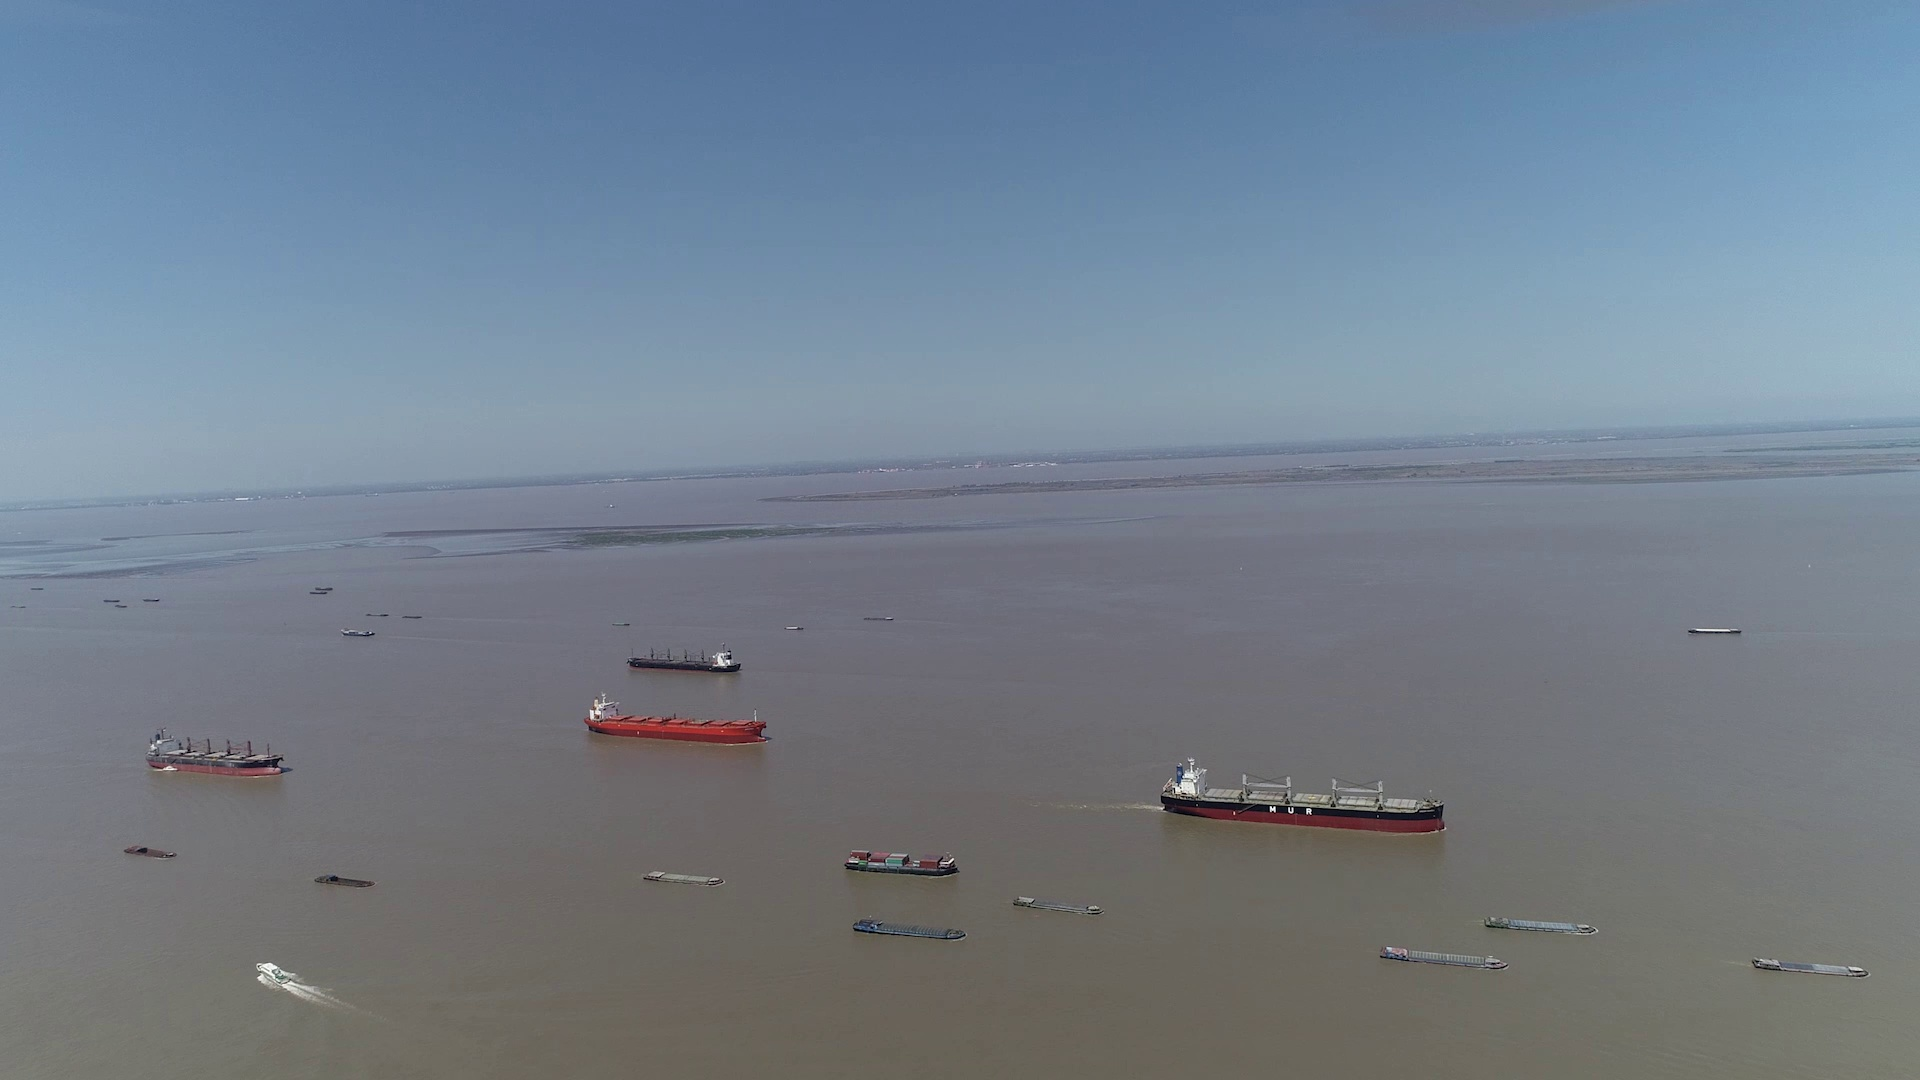ship: (1158, 758, 1445, 833), (585, 695, 767, 742), (150, 727, 284, 775), (625, 644, 742, 673), (844, 848, 957, 876), (1381, 947, 1513, 971), (1751, 955, 1867, 977), (853, 916, 968, 939), (1484, 914, 1600, 935), (1013, 895, 1102, 915), (644, 872, 724, 887), (255, 963, 291, 986), (316, 876, 376, 889), (124, 845, 175, 858), (1689, 625, 1742, 634), (342, 629, 376, 637)
